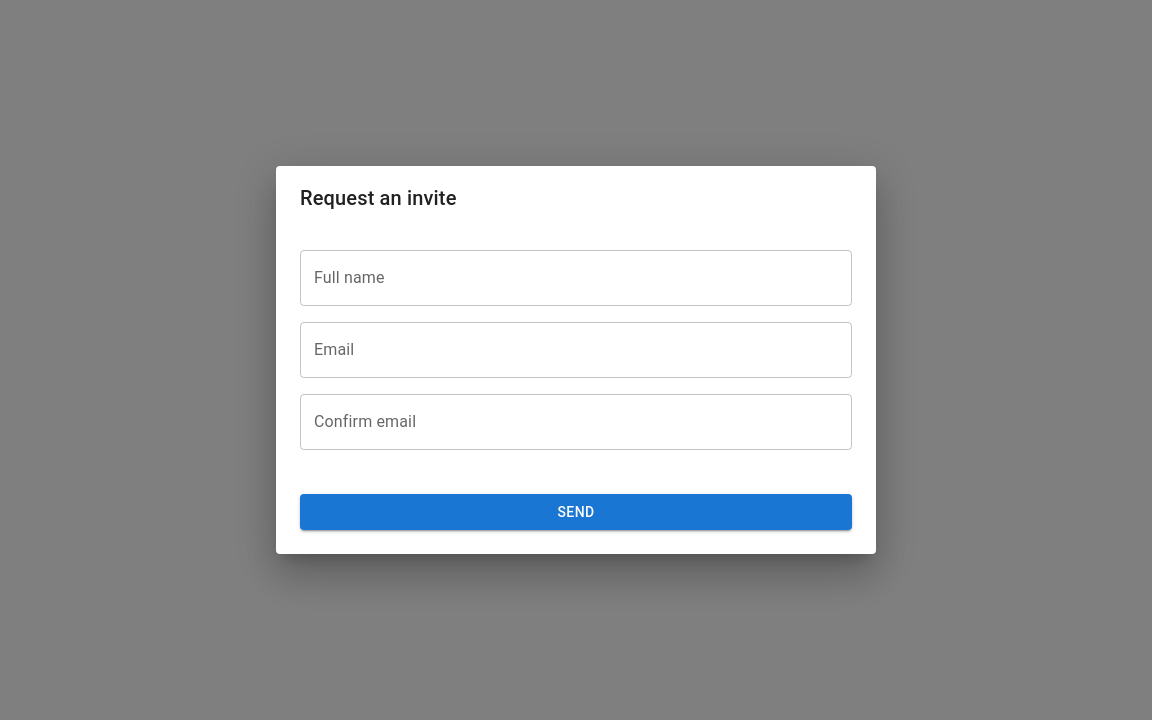
Test case: InviteModal › handles API error
The width and height of the screenshot is (1152, 720).
In the field labelled "Full name": (576, 278) [300,250,852,306], type "John Doe"
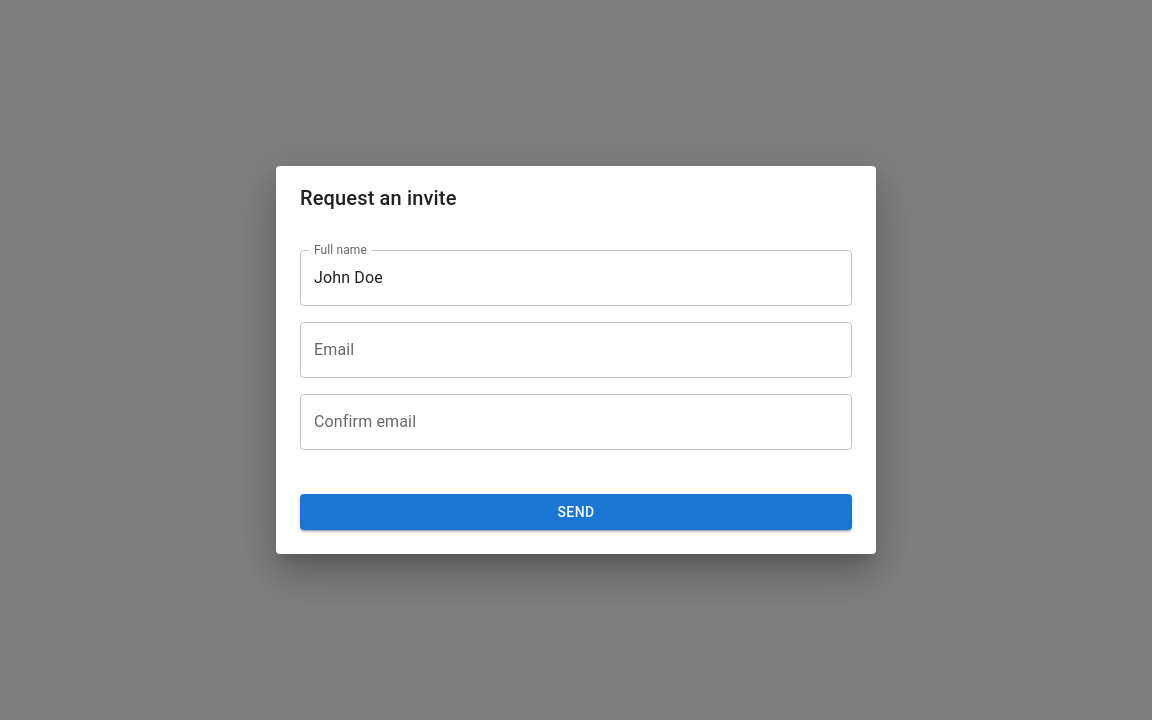
In the field labelled "Email": (576, 350) [300,322,852,378], type "usedemail@airwallex.com"
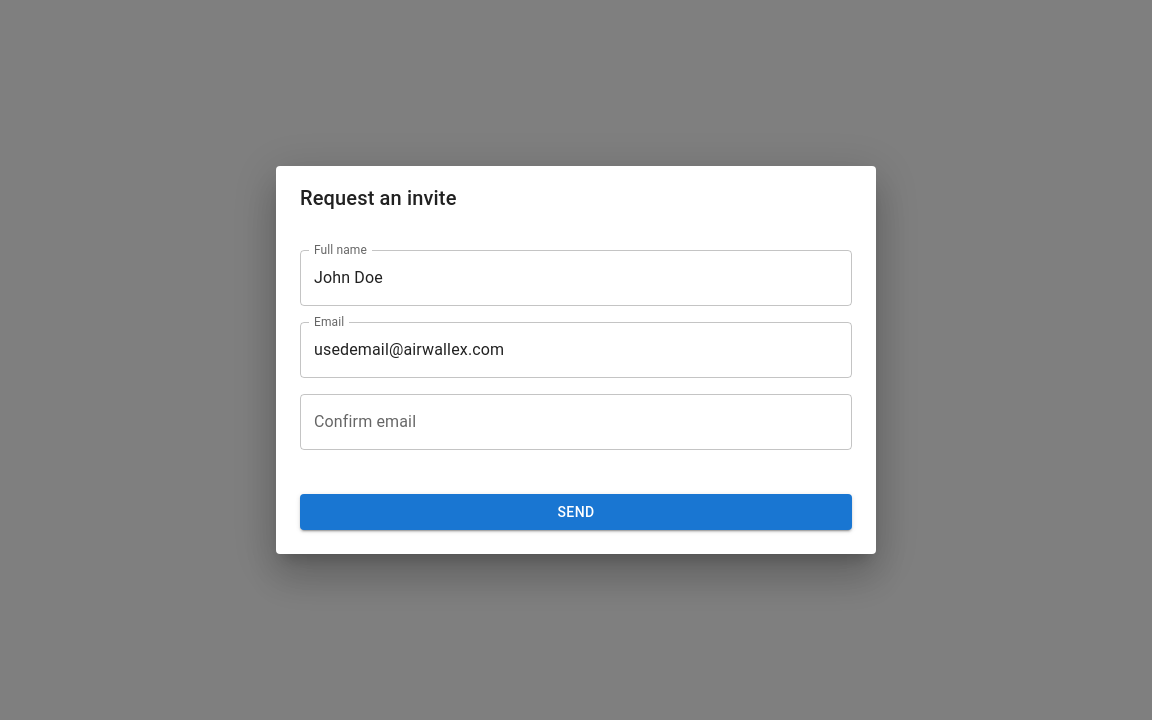
In the field labelled "Confirm email": (576, 422) [300,394,852,450], type "usedemail@airwallex.com"
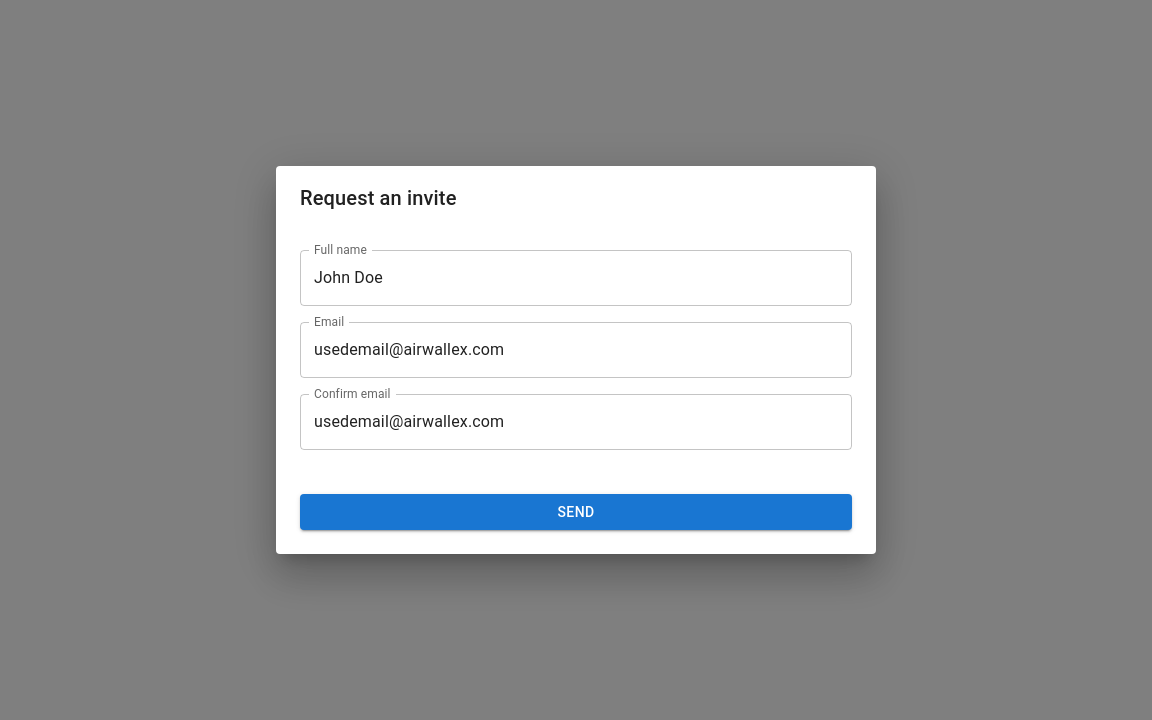
Click the button "Send": (576, 512) [300,494,852,530]
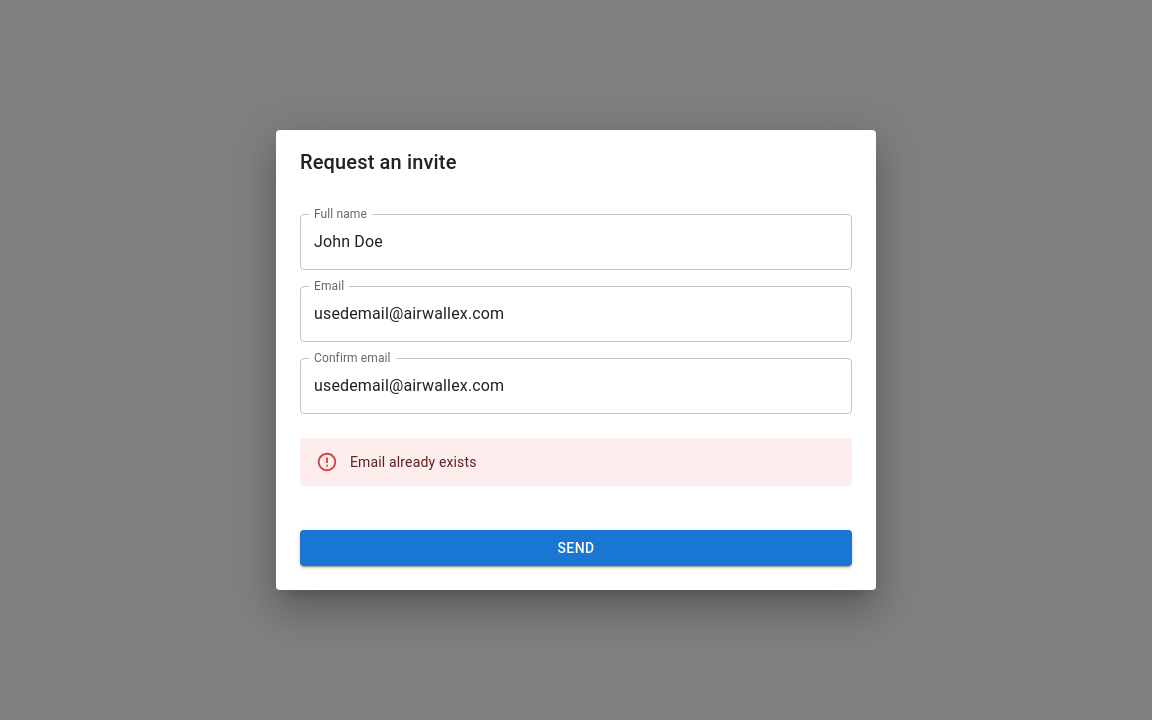
Expected: the text "Email already exists" is shown, [350,454,477,470]
